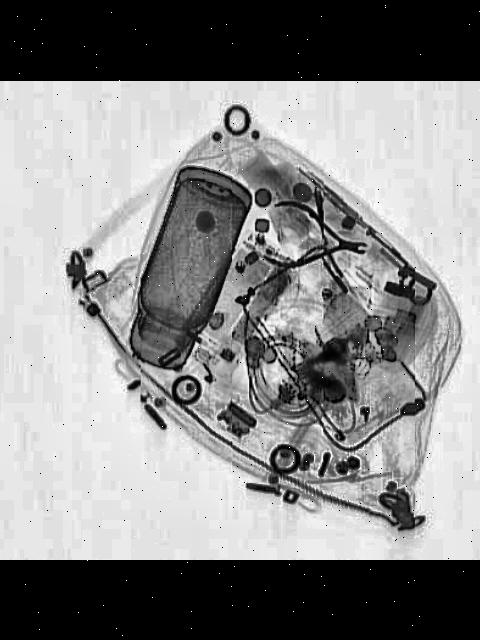Pliers: (261, 196, 377, 278)
